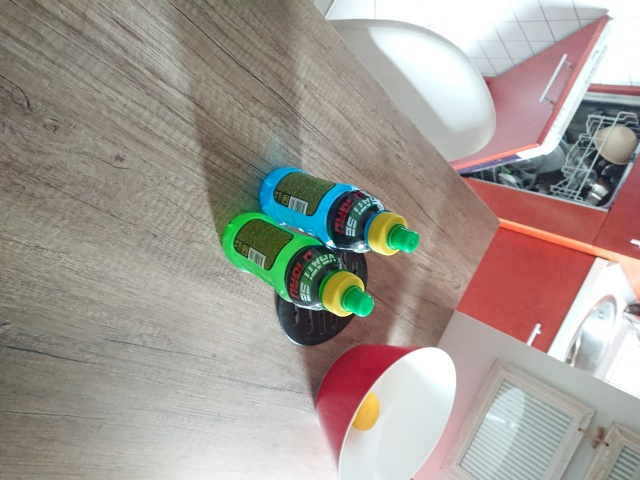Vindi Iso Sport Forest Strawberries 500mL: (257, 164, 422, 258)
Vindi Iso Sport Lemon-Grapefruit 500mL: (219, 209, 377, 320)
